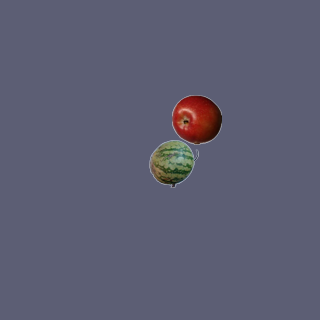Apple Braeburn: (171, 94, 221, 144)
Watermelon: (148, 138, 198, 188)
